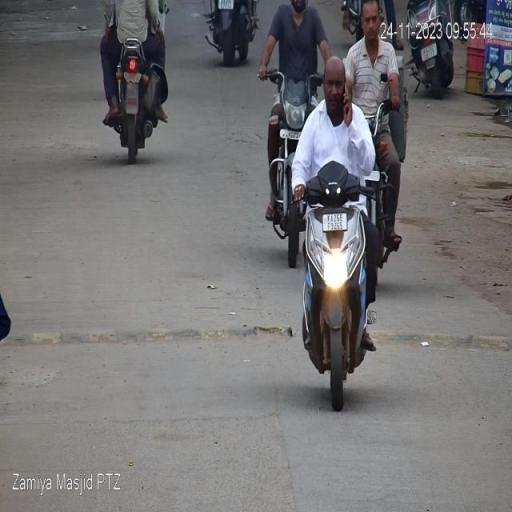using mobile: (342, 76, 354, 131)
